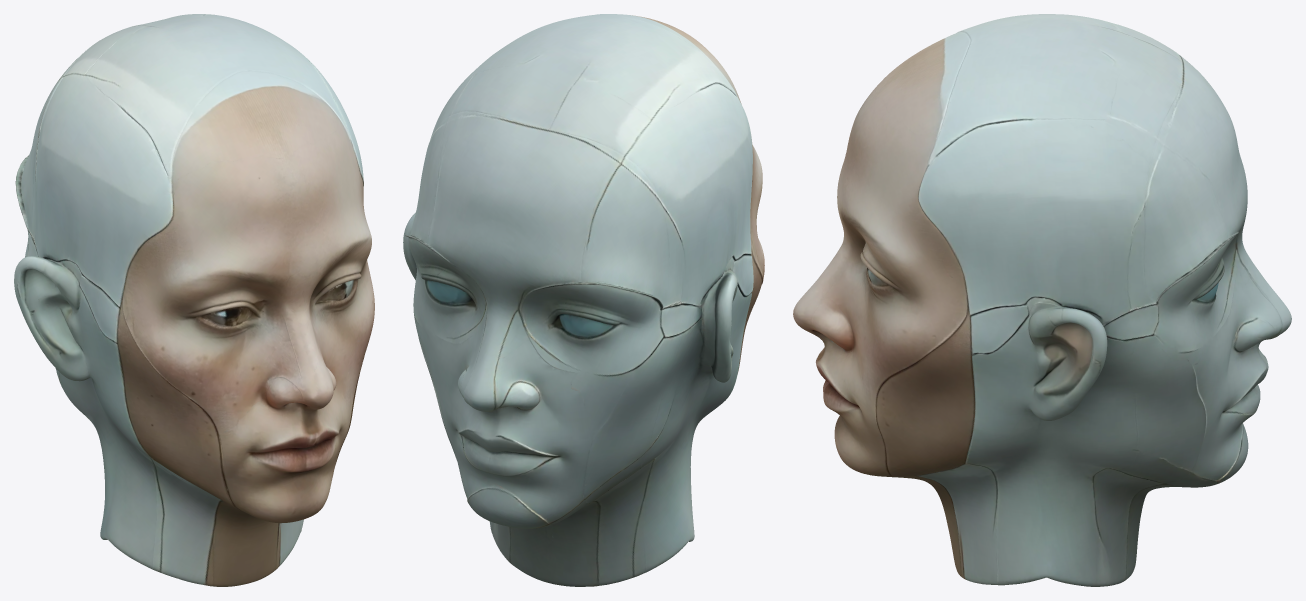
File: hero.glb
The picture shows the model from 3 angles, left to right: view 1: azimuth 30°, elevation 25°; view 2: azimuth 150°, elevation 25°; view 3: azimuth 270°, elevation 25°; orthographic projection. The views are drawn at different scales.
Parts seen in each view (by area): view 1: model; view 2: model; view 3: model.
Boxes of the visible parts, x1,y1,x2,y2 form: model: (14,14,374,586); model: (403,14,764,586); model: (793,14,1291,586).
Size of the model in its own units: 1.24 by 1.9 by 1.6.
Materials: 1 (1 with a texture image).
